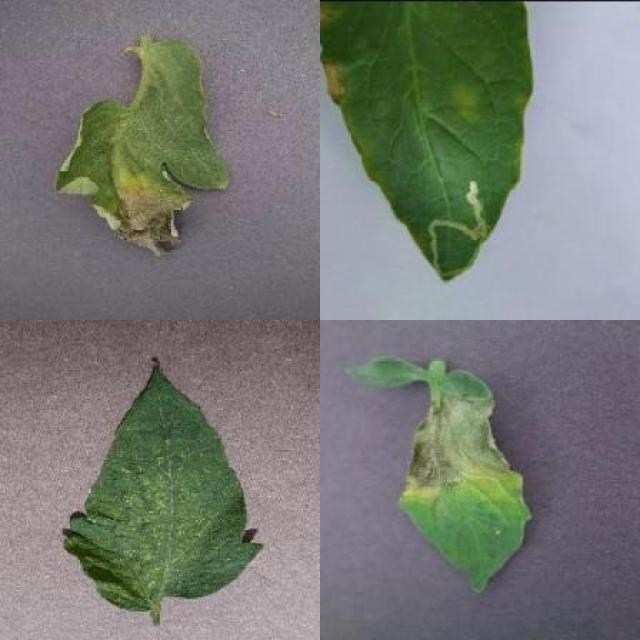Late Blight: (341, 355, 533, 598), (57, 37, 232, 254)
Leaf Miner: (320, 0, 534, 286)
Spider Mites: (64, 358, 262, 612)
